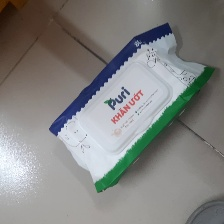Puri Trang: (48, 22, 216, 194)
